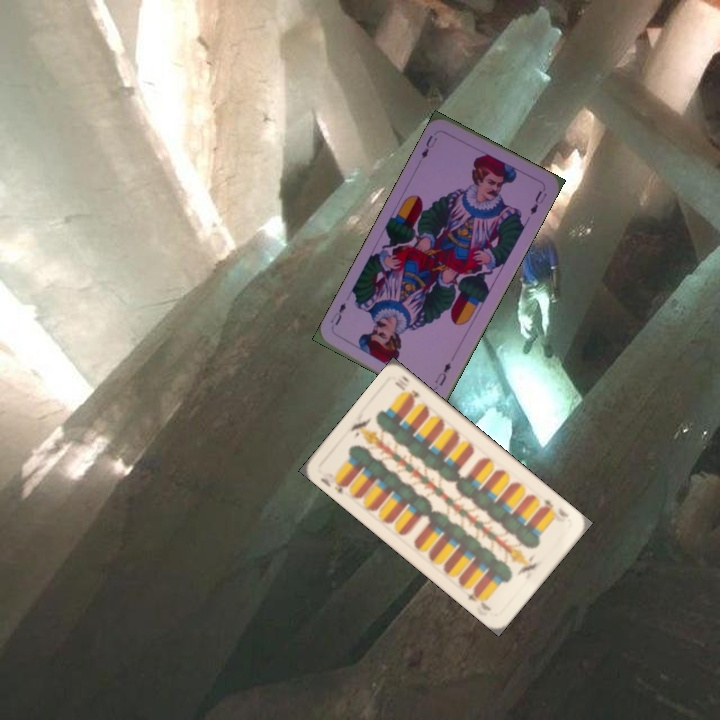E10: (538, 495, 571, 520), (316, 474, 351, 497)
EU: (417, 131, 440, 161), (431, 358, 454, 388)
